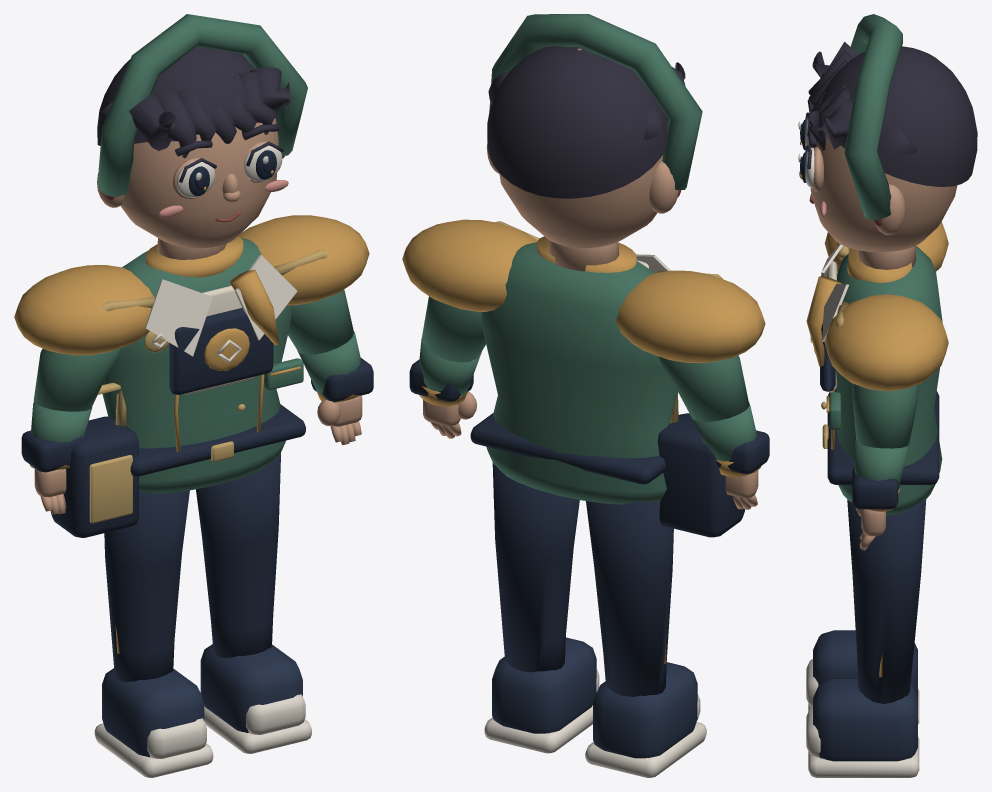
The model's file is npc_valley_trainer_grove_guard.glb.
The picture shows the model from 3 angles, left to right: view 1: azimuth 30°, elevation 25°; view 2: azimuth 150°, elevation 25°; view 3: azimuth 270°, elevation 25°; orthographic projection. The views are drawn at different scales.
Visible parts, largest first — view 1: figure.014; view 2: figure.014; view 3: figure.014.
Part boxes in pixels (x1,y1,x2,y2): figure.014: (14, 14, 373, 777); figure.014: (402, 14, 769, 777); figure.014: (798, 14, 977, 777).
Bounding box in the file's own units: 0.7869 × 1.58 × 0.3577.
